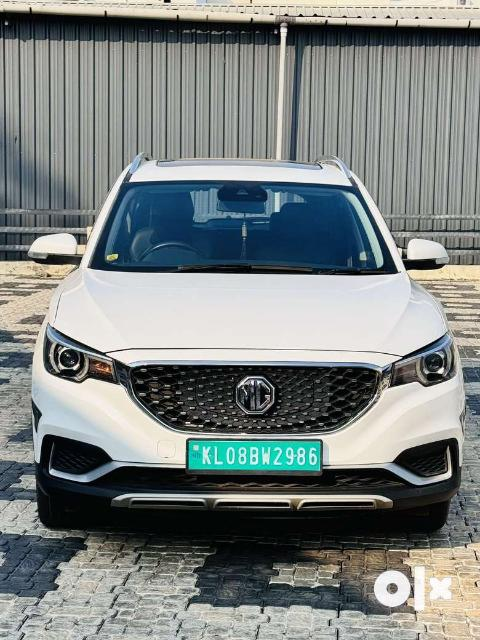Indian_Number_Plate: (187, 439, 323, 473)
